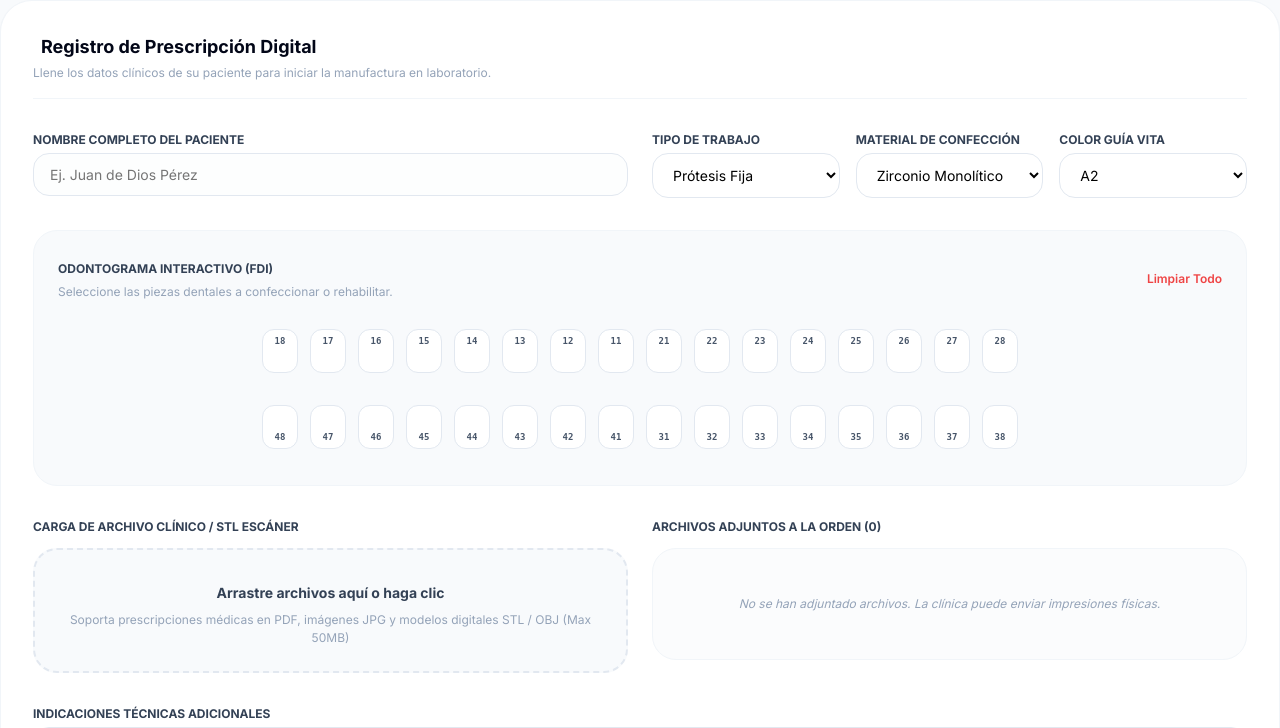
Scenario: NewOrderForm — selects del catálogo › volver a Prótesis Fija restaura materiales zirconio y color VITA
Select "Grillz" in the dropdown below "Tipo de Trabajo": (746, 176) top-left (652, 153), bottom-right (840, 198)
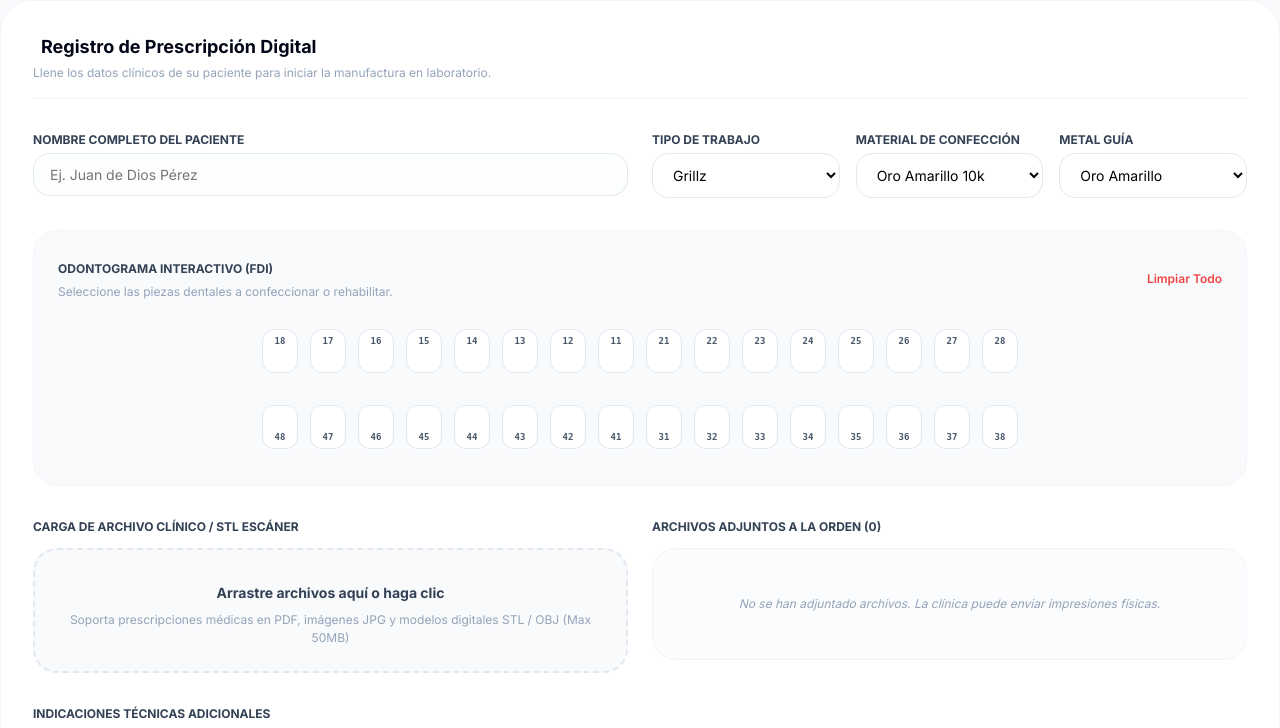
Select "Prótesis Fija" in the dropdown below "Tipo de Trabajo": (746, 176) top-left (652, 153), bottom-right (840, 198)
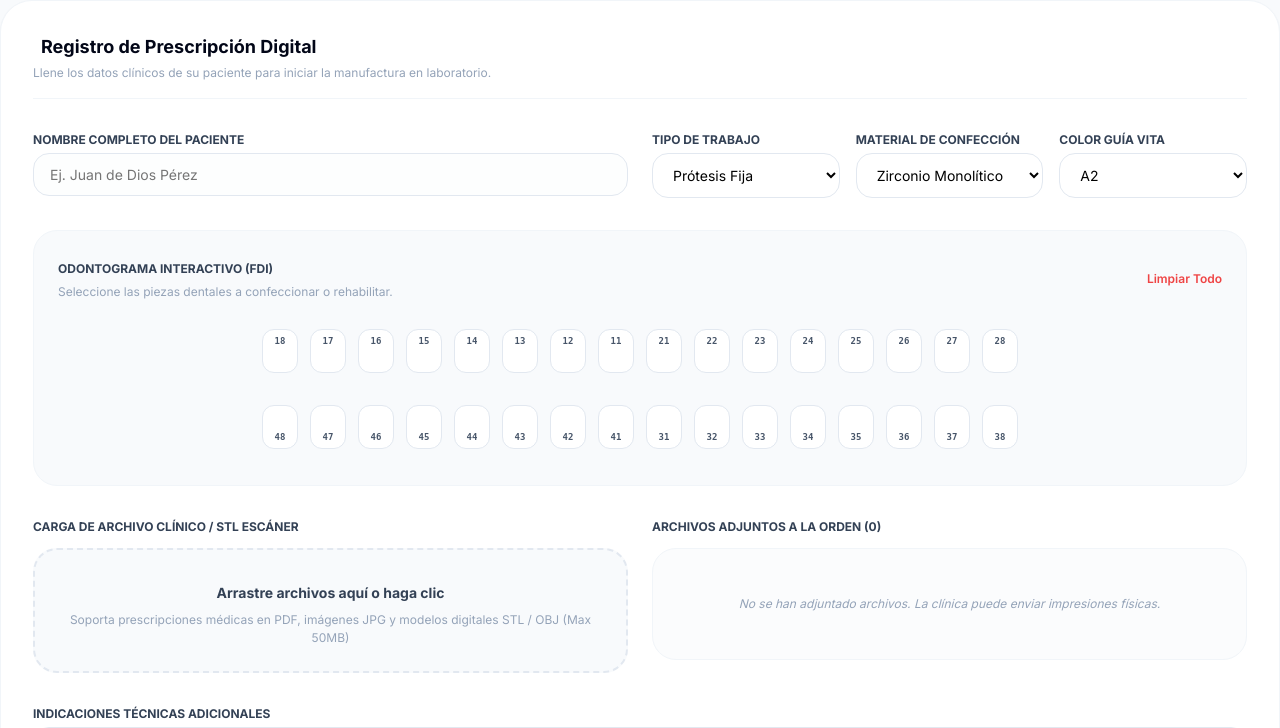
Expected: the dropdown below "Color Guía VITA" shows "A2", top-left (1059, 153), bottom-right (1247, 198)
